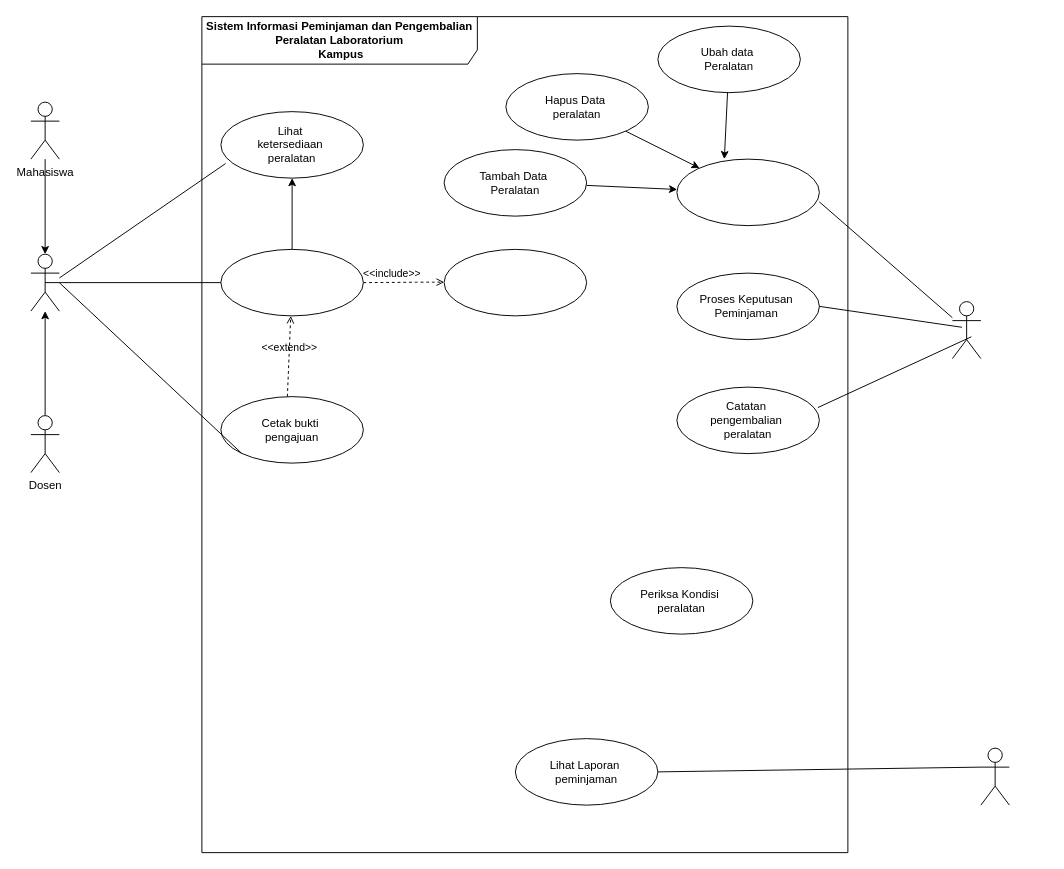
The diagram is 1064 pixels wide and 869 high, and some of its shapes have lost their labels. Each missing label, with the centre of its shape:
Ajukan Peminjaman: the point at 291,282
Kelola data peralatan: the point at 747,192
Kepala Laboratorium: the point at 994,776
Peminjam: the point at 44,282
Periksa Ketersediaan: the point at 515,282
Petugas Laboratorium: the point at 966,330
